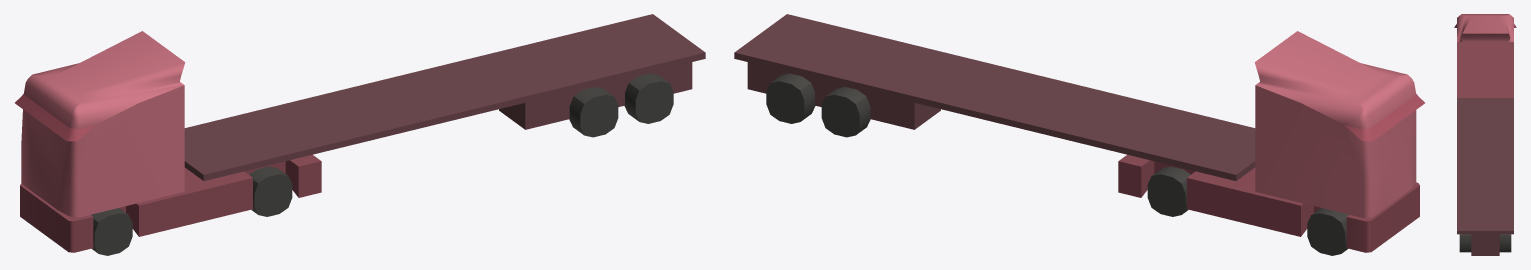
The model's file is Truck_Long.fbx.
The picture shows the model from 3 angles, left to right: view 1: azimuth 30°, elevation 25°; view 2: azimuth 150°, elevation 25°; view 3: azimuth 270°, elevation 25°; orthographic projection. The views are drawn at different scales.
Parts seen in each view (by area): view 1: Cab, Back; view 2: Cab, Back; view 3: Back, Cab.
Boxes of the visible parts, x1,y1,x2,y2 form: Cab: (15,31,321,255); Back: (184,14,705,180); Cab: (1118,31,1424,255); Back: (734,14,1255,180); Back: (1457,98,1513,255); Cab: (1454,14,1516,97).
Size of the model in its own units: 28.01 by 7.22 by 4.4.
